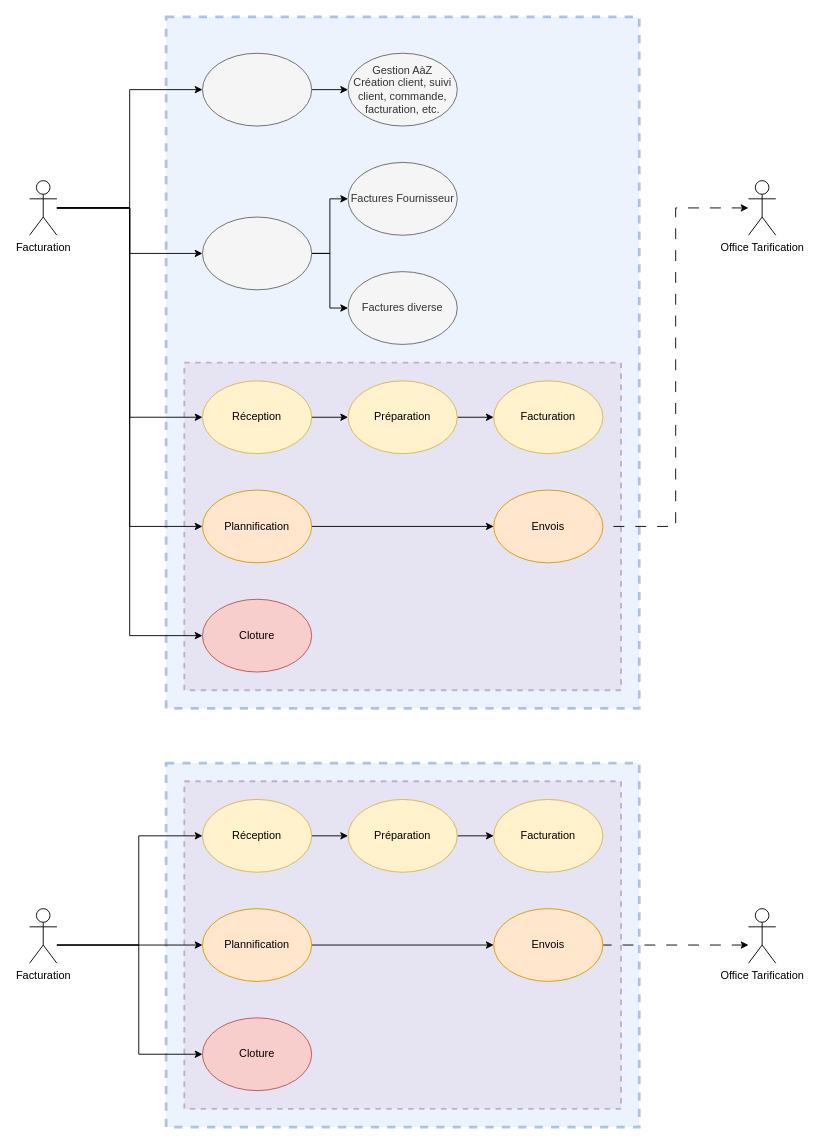
This 819x1144 diagram has some shape labels left out. The shapes that lost their labels are listed below. From the top down, each one's centre as x and y in pixels, then its label:
At point 257,89: "Urostime".
At point 257,253: "Factures".
